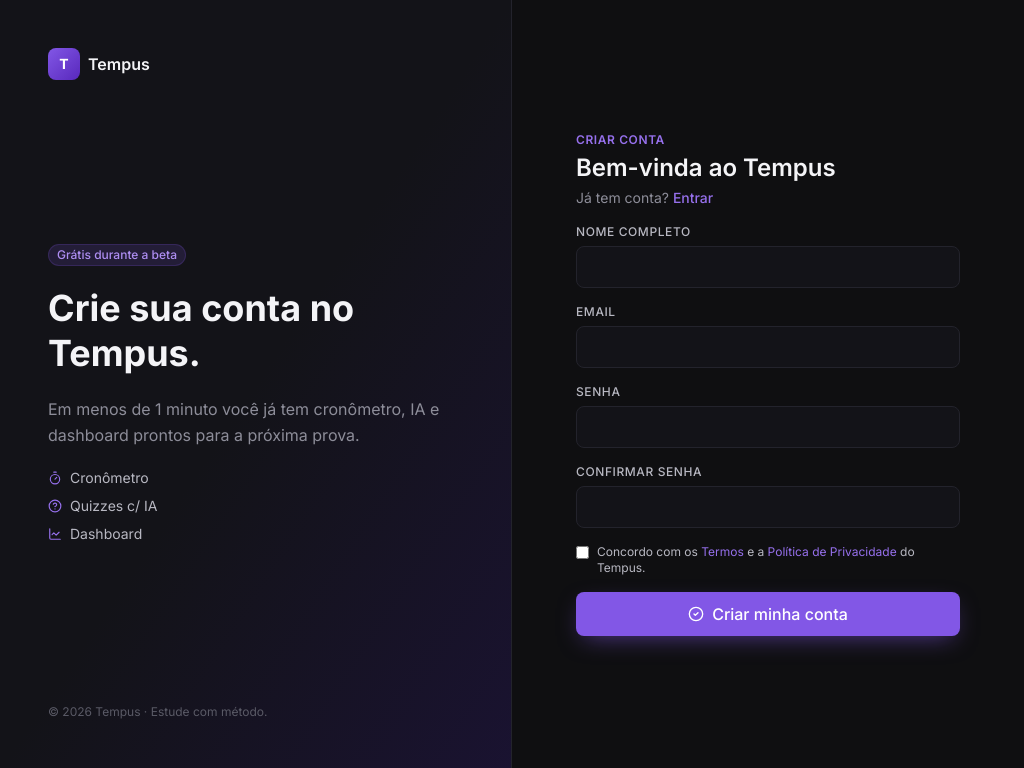
it: RegisterPage › exibe erro 'Senhas não conferem' quando senhas divergem no submit
Type "Yago" into the field labelled "Nome completo".
click(768, 267); type("Yago")  # box top-left (576, 246), bottom-right (960, 288)
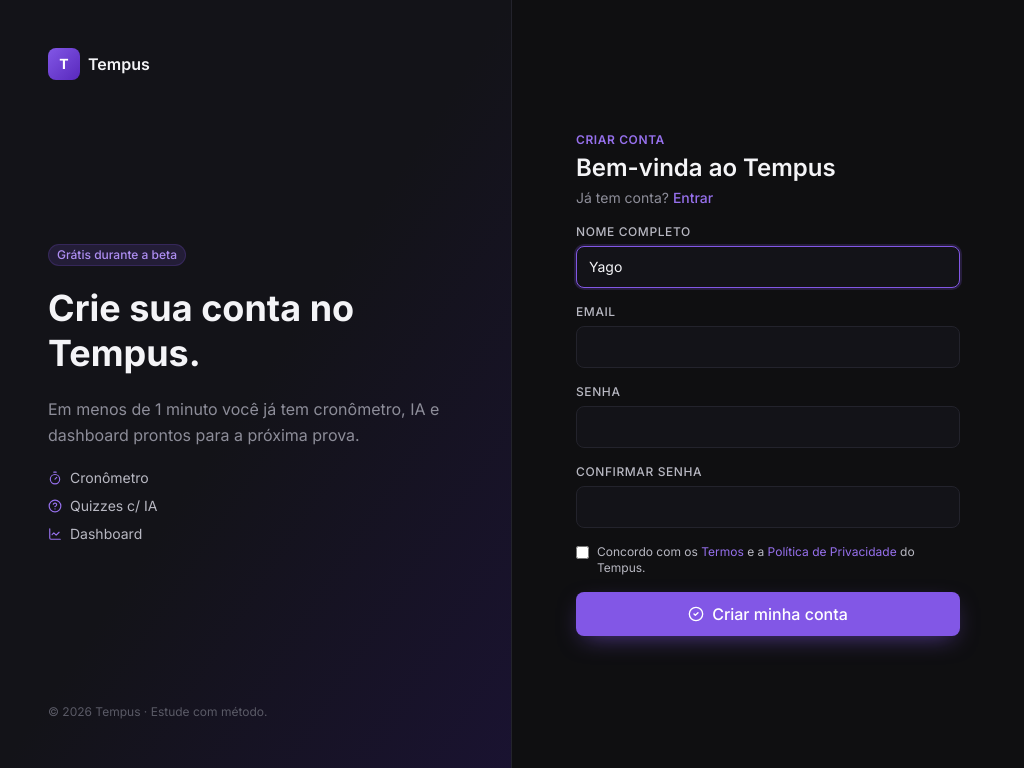
Type "yago@tempus.dev" into the field labelled "Email".
click(768, 347); type("yago@tempus.dev")  # box top-left (576, 326), bottom-right (960, 368)
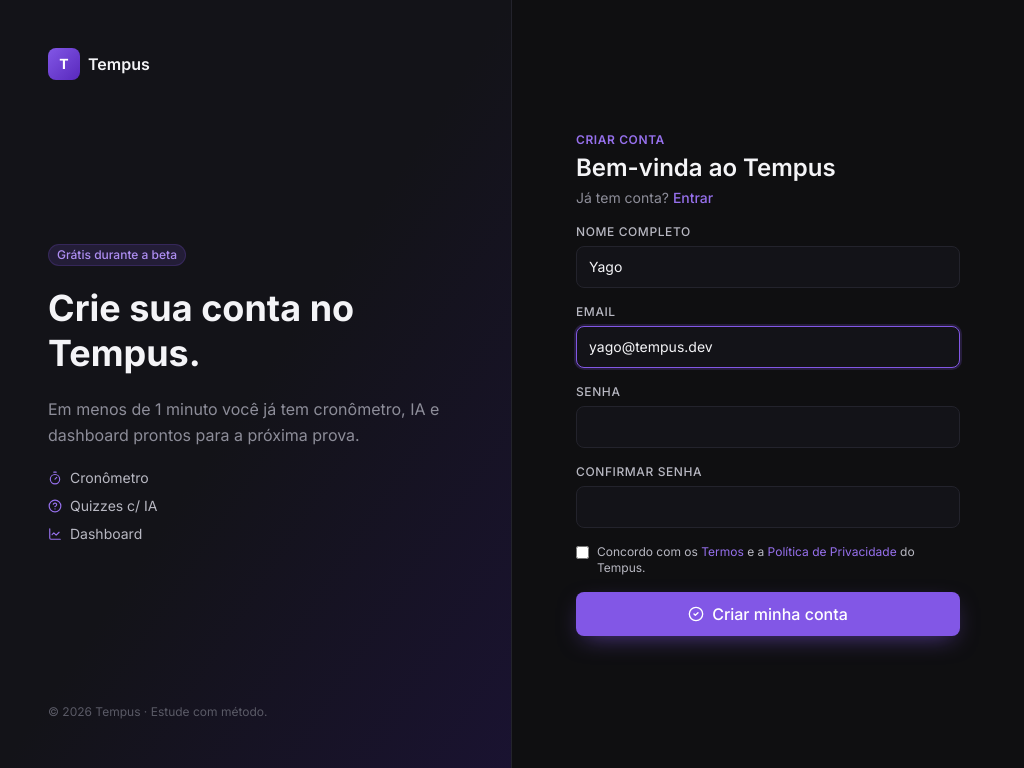
Type "Abc123!@" into the password field labelled "Senha".
click(768, 427); type("Abc123!@")  # box top-left (576, 406), bottom-right (960, 448)
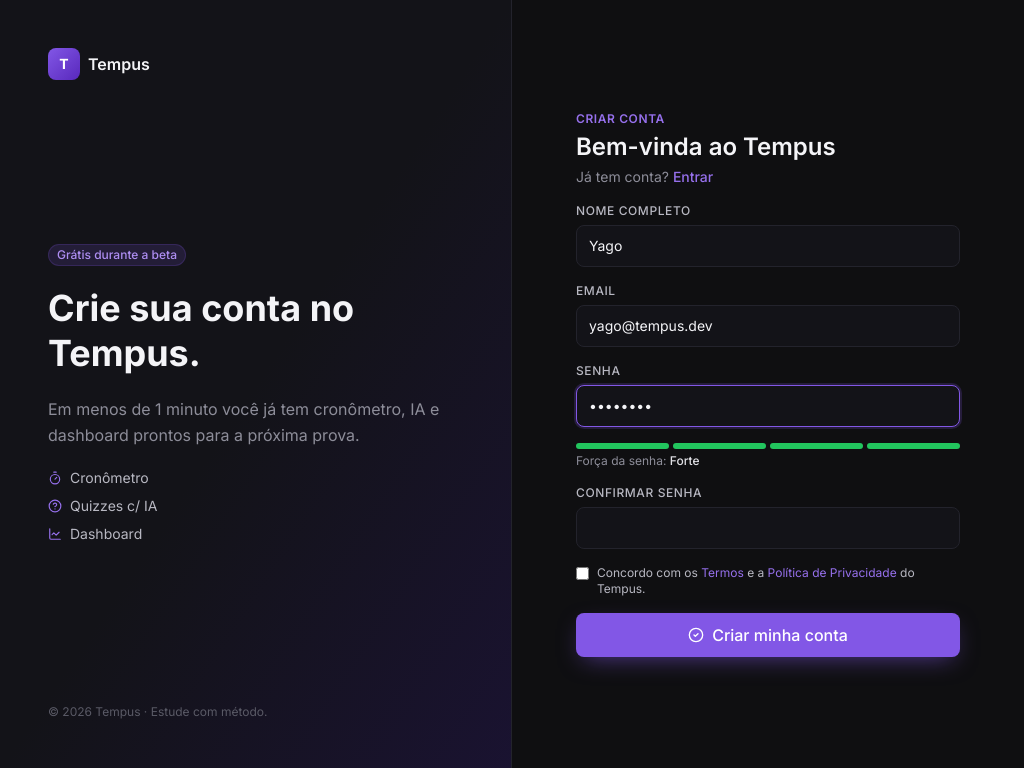
Type "diferente" into the password field labelled "Confirmar senha".
click(768, 528); type("diferente")  # box top-left (576, 507), bottom-right (960, 549)
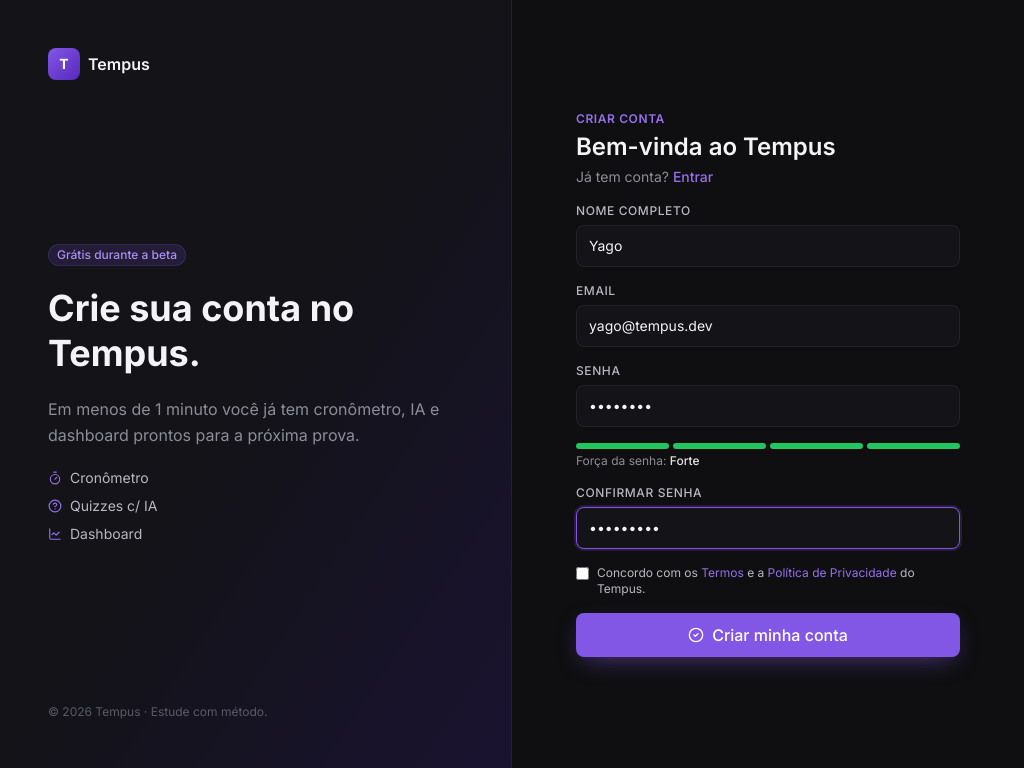
# Marca o checkbox de termos pra passar dessa validação
Click the checkbox.
click(582, 574)  # box top-left (576, 567), bottom-right (589, 580)
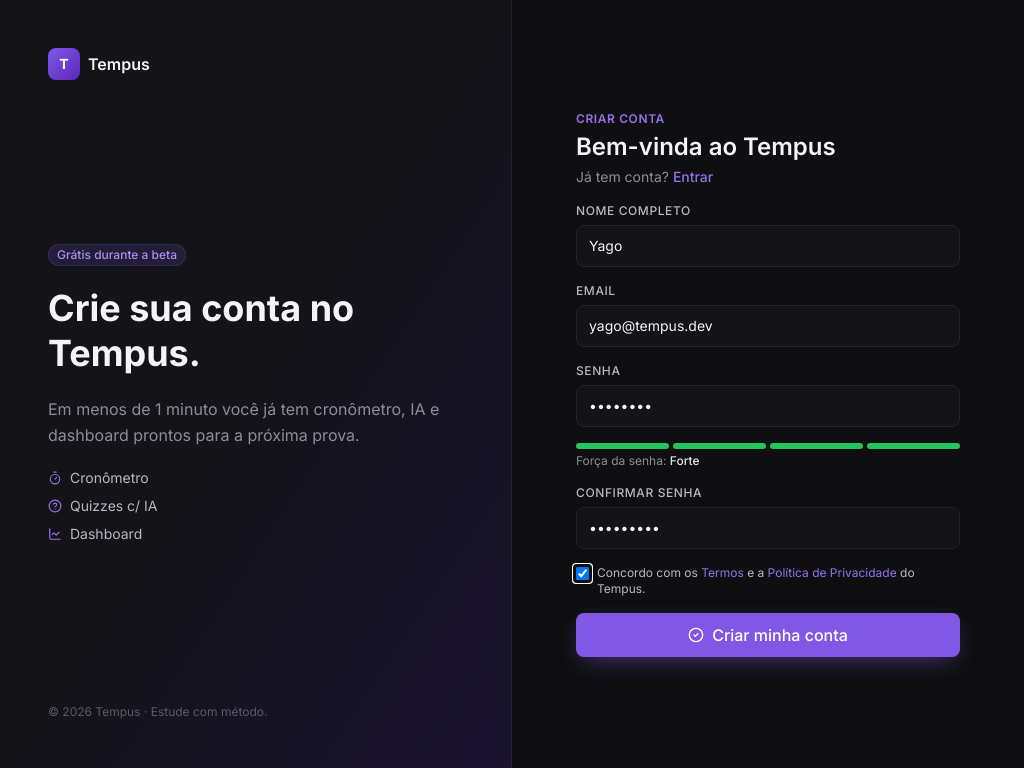
Click the button "Criar minha conta".
click(768, 635)  # box top-left (576, 613), bottom-right (960, 657)
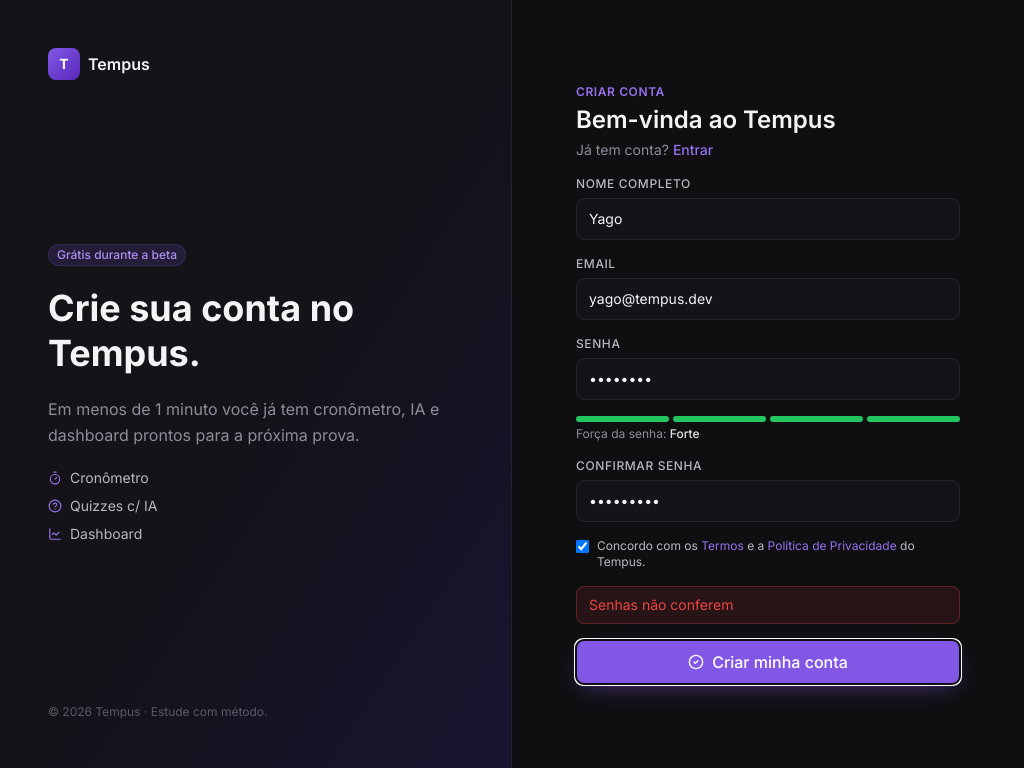
expect the text "Senhas não conferem" is shown: met, box top-left (576, 586), bottom-right (960, 624)
